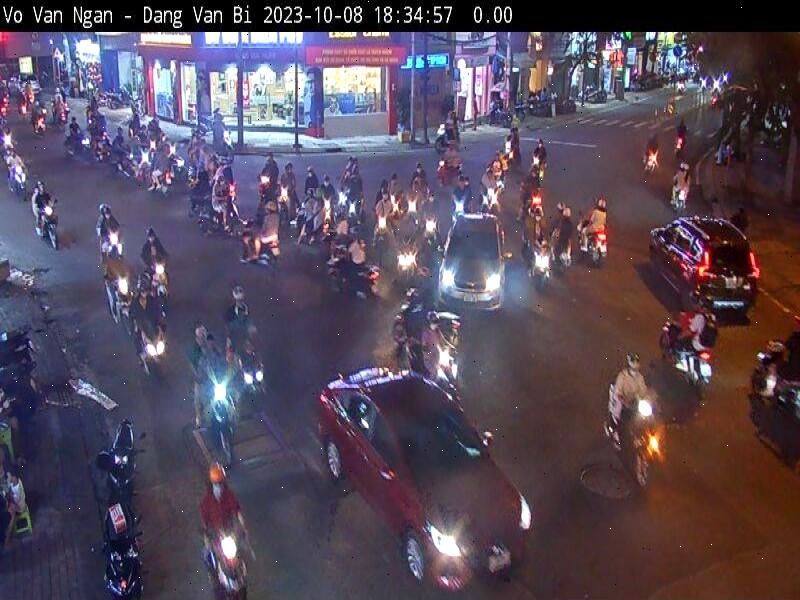car: (316, 357, 535, 580), (637, 204, 750, 347), (437, 197, 520, 355)
motorcycle: (90, 413, 168, 600)
